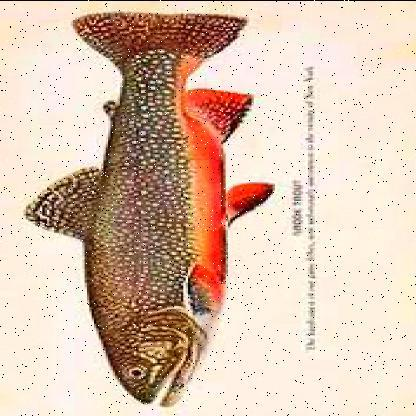fish: (31, 5, 286, 412)
